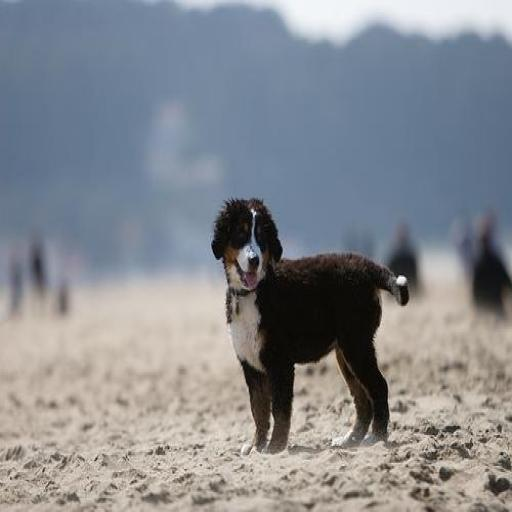dog_face: (210, 198, 276, 286)
